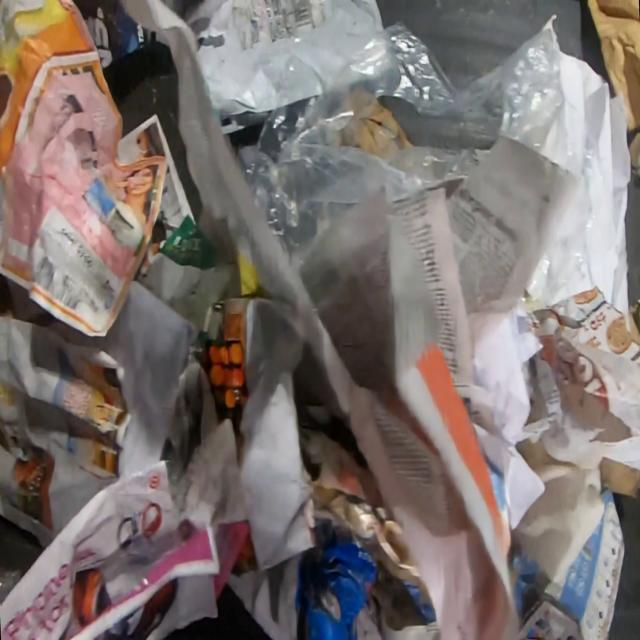cardboard: (293, 522, 378, 640), (586, 0, 640, 179)
soft_plastic: (235, 14, 613, 307), (186, 0, 385, 119)
